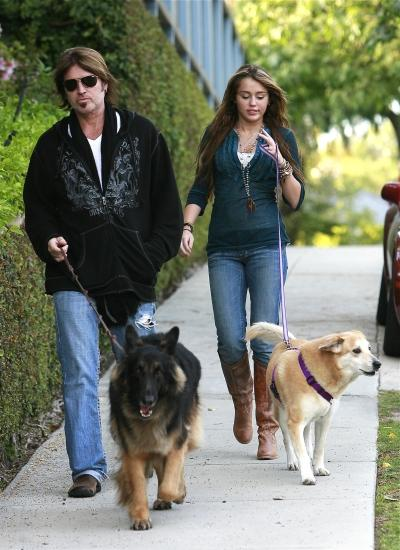person: (180, 67, 305, 463)
